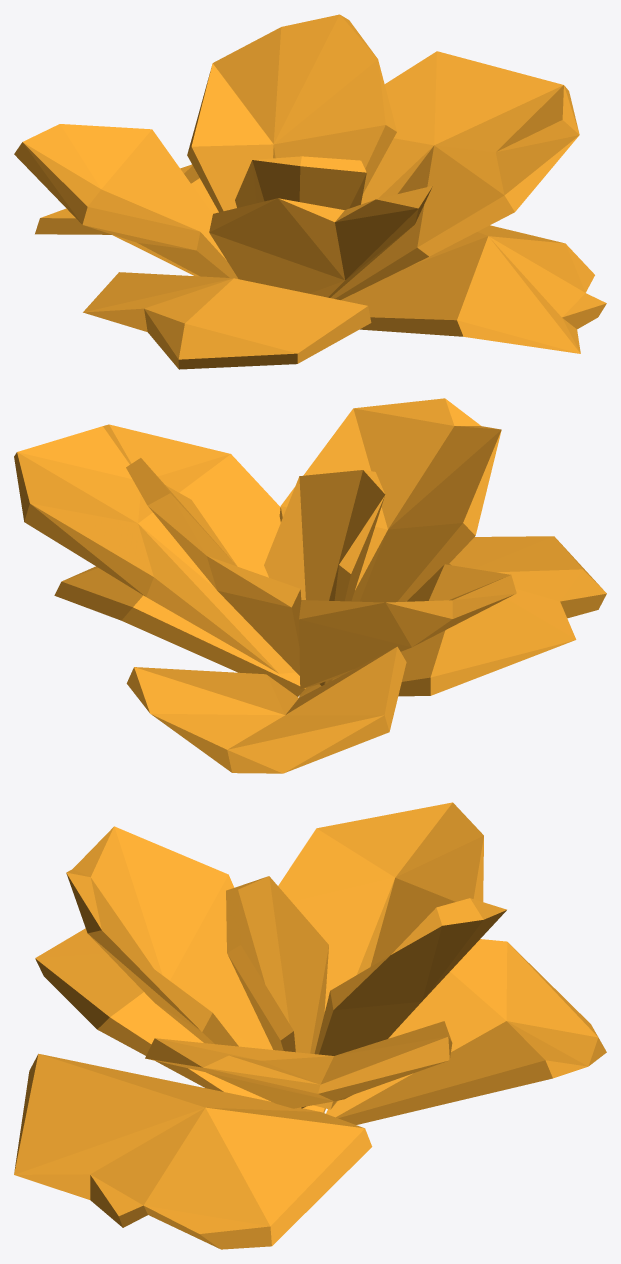
Rendered from SM_Salad_Dead_B.fbx.
The picture shows the model from 3 angles, top to bottom: view 1: azimuth 30°, elevation 25°; view 2: azimuth 150°, elevation 25°; view 3: azimuth 270°, elevation 25°; orthographic projection. The views are drawn at different scales.
Visible parts, largest first — view 1: salad-dead-b; view 2: salad-dead-b; view 3: salad-dead-b.
Boxes of the visible parts, x1,y1,x2,y2 form: salad-dead-b: (14, 14, 606, 369); salad-dead-b: (14, 398, 606, 773); salad-dead-b: (14, 802, 606, 1249).
Size of the model in its own units: 0.417 by 0.1915 by 0.3712.
